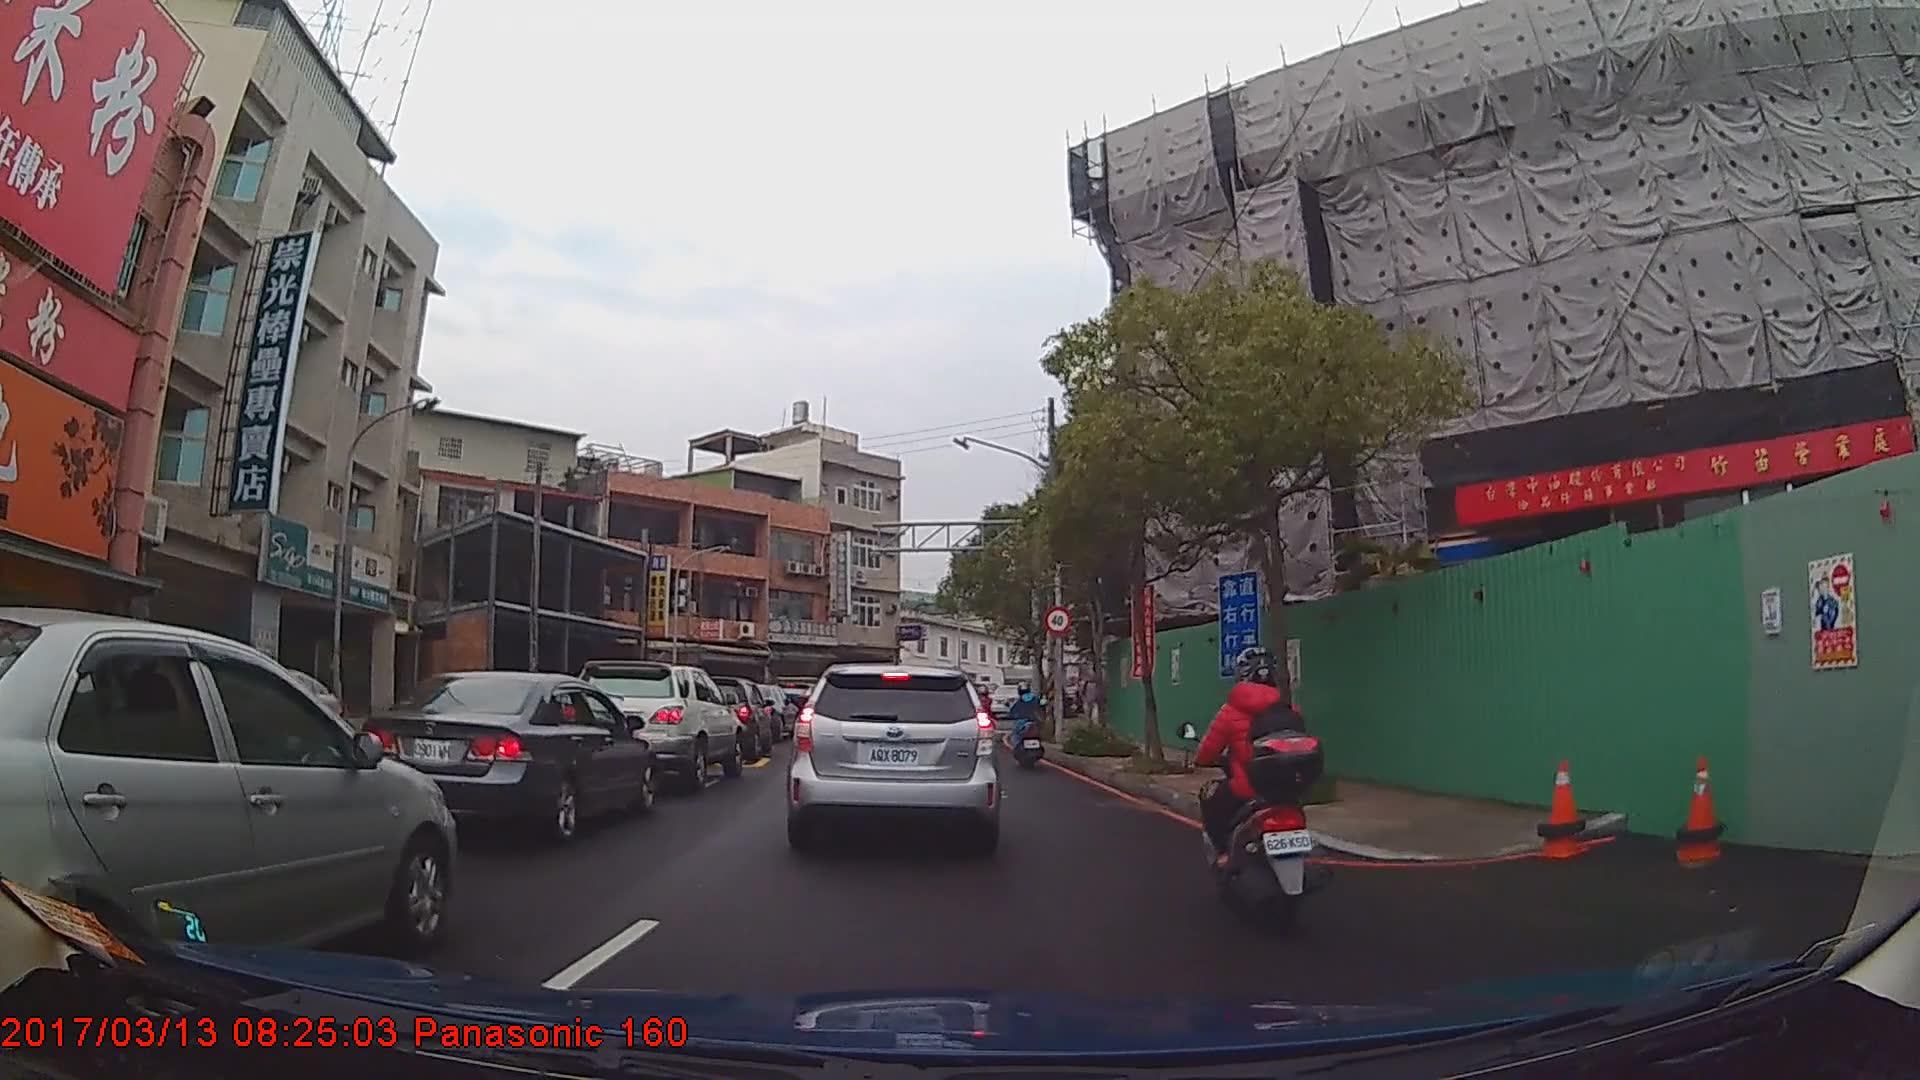rider: (1181, 648, 1333, 930), (1007, 683, 1051, 775)
vehicle: (0, 604, 459, 999), (362, 670, 653, 841), (783, 664, 1000, 853), (573, 656, 743, 790)
